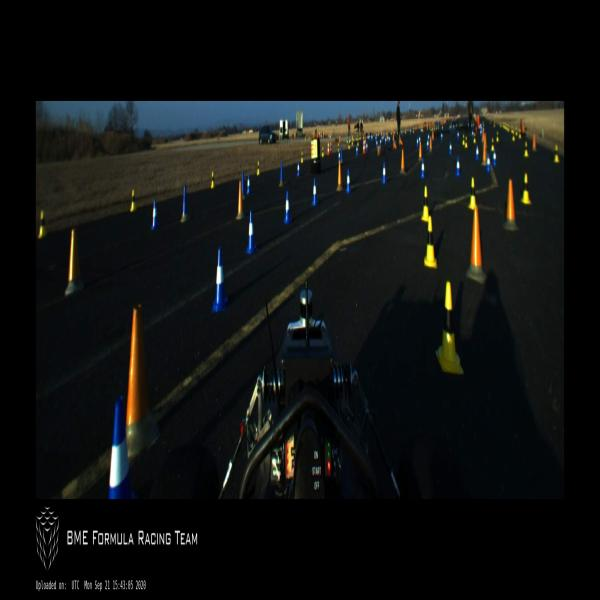blue_cone: (107, 397, 133, 498), (213, 248, 228, 311), (245, 210, 258, 253), (283, 190, 292, 223), (151, 200, 159, 230), (311, 178, 318, 206), (345, 168, 351, 194), (246, 174, 252, 194), (455, 156, 461, 176), (420, 158, 425, 180), (382, 162, 386, 184), (486, 152, 490, 172), (296, 160, 300, 178), (493, 149, 496, 166), (449, 141, 452, 155), (476, 146, 479, 160), (426, 138, 429, 151), (416, 138, 419, 147), (440, 132, 443, 141), (338, 151, 340, 163), (356, 144, 358, 156), (379, 138, 382, 146), (418, 135, 421, 143), (366, 141, 368, 152), (457, 130, 459, 140), (384, 137, 386, 146), (427, 134, 430, 140), (376, 140, 378, 148), (387, 136, 389, 142), (389, 136, 390, 142)
large_orange_cone: (327, 141, 330, 155), (329, 141, 332, 155), (364, 137, 366, 154), (362, 138, 364, 154)
unknown_cone: (126, 303, 159, 459), (466, 206, 487, 285), (64, 229, 84, 295), (502, 179, 520, 231), (180, 184, 190, 223), (236, 180, 245, 219), (336, 160, 344, 191), (399, 149, 406, 173), (241, 169, 246, 200), (481, 141, 487, 165), (279, 162, 284, 186), (418, 141, 423, 161), (532, 133, 537, 152), (429, 136, 433, 152), (484, 132, 488, 148), (399, 135, 403, 146), (377, 146, 381, 156), (393, 140, 397, 150), (392, 130, 395, 140), (432, 129, 434, 140), (482, 131, 484, 142)
yellow_cone: (436, 281, 463, 374), (424, 215, 437, 270), (468, 178, 478, 209), (421, 184, 429, 221), (522, 174, 530, 203), (38, 209, 46, 237), (130, 189, 136, 212), (554, 145, 560, 162), (210, 172, 215, 189), (524, 142, 529, 156), (257, 162, 260, 176), (491, 138, 494, 151), (300, 151, 303, 163), (464, 137, 467, 148), (518, 130, 522, 138), (462, 135, 465, 145), (473, 134, 476, 144), (496, 131, 499, 141), (512, 130, 515, 140), (322, 146, 324, 158), (338, 144, 340, 153), (516, 128, 518, 136), (348, 142, 350, 150), (357, 138, 359, 146), (351, 139, 353, 146)
